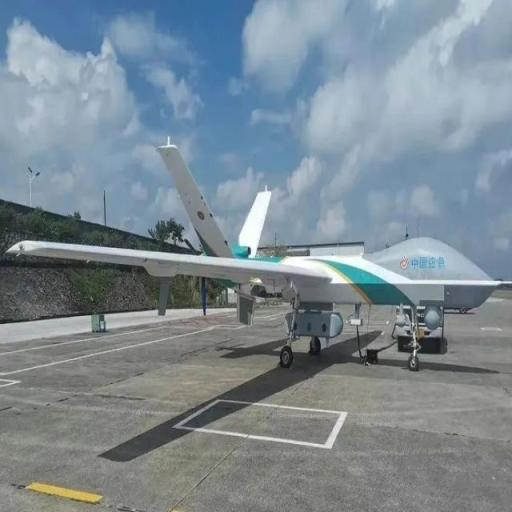uav: (6, 131, 512, 413)
